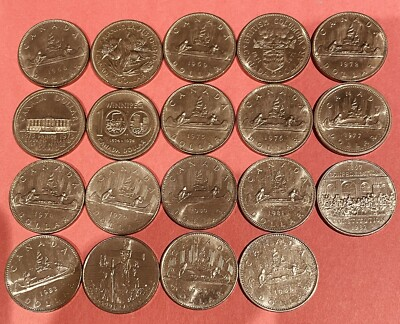coin: (239, 234, 317, 311), (317, 160, 395, 235), (5, 235, 81, 311), (161, 232, 236, 309), (83, 237, 159, 312), (238, 157, 315, 231), (9, 159, 84, 233), (161, 155, 236, 228), (86, 161, 160, 234), (314, 83, 390, 154), (237, 84, 312, 155), (161, 84, 234, 153), (312, 12, 386, 80), (87, 90, 159, 159), (237, 14, 310, 81), (164, 13, 235, 81), (13, 89, 84, 157), (91, 20, 161, 88), (18, 20, 88, 86)
